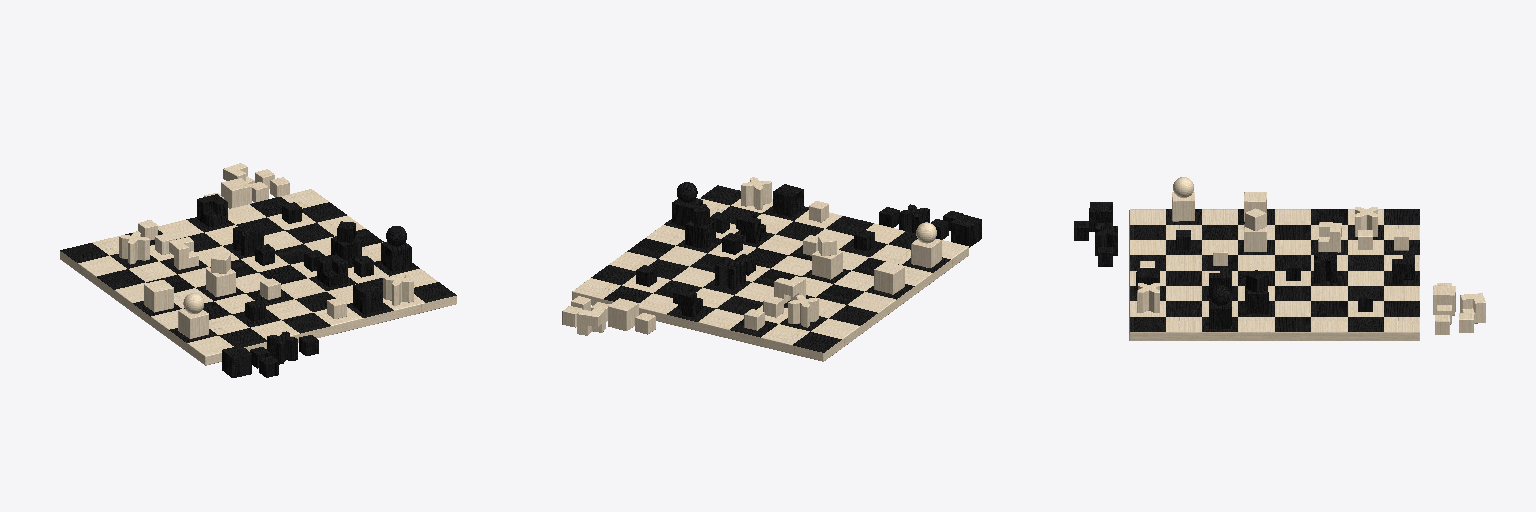
3 views of the same model, side by side, from view 1: azimuth 30°, elevation 25°; view 2: azimuth 150°, elevation 25°; view 3: azimuth 270°, elevation 25° (orthographic).
Visible parts, largest first — view 1: 05_Bauhaus; view 2: 05_Bauhaus; view 3: 05_Bauhaus.
Part boxes in pixels (x1,y1,x2,y2): 05_Bauhaus: (60,163,456,377); 05_Bauhaus: (562,177,981,361); 05_Bauhaus: (1074,177,1485,340).
Bounding box in the file's own units: 384 × 70.63 × 545.
3 materials, 2 textured.